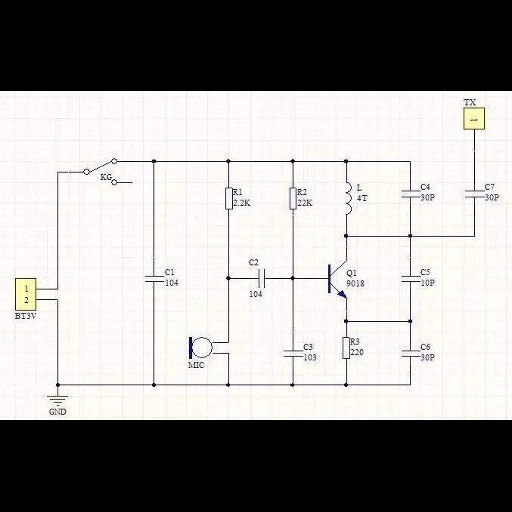capacitor: (396, 185, 421, 203), (461, 186, 485, 204), (396, 271, 421, 287), (397, 346, 421, 362), (254, 268, 272, 289), (142, 272, 165, 287), (279, 346, 303, 360)
firstresistance: (221, 184, 234, 215), (338, 334, 351, 362), (286, 186, 298, 215)
gnd: (44, 394, 73, 407)
inductor: (341, 177, 354, 220)
npn: (317, 251, 348, 307)
